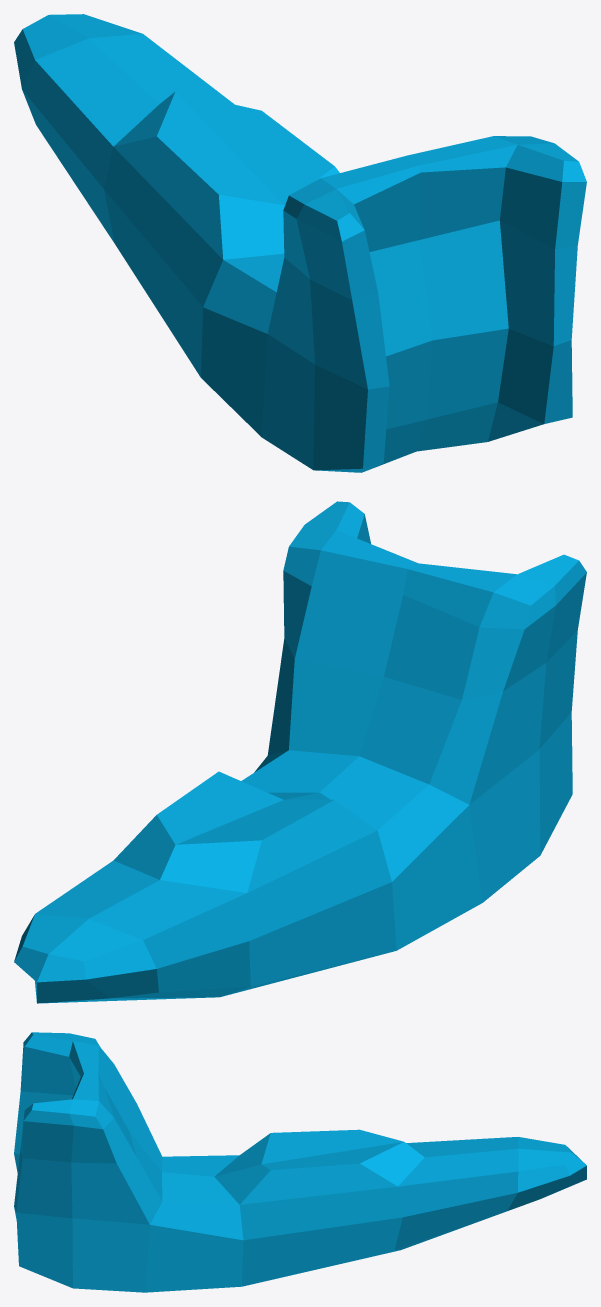
The model's file is Bull_Skull_Jaw.fbx.
3 views of the same model, one above another, from view 1: azimuth 30°, elevation 25°; view 2: azimuth 150°, elevation 25°; view 3: azimuth 270°, elevation 25° (orthographic). The views are drawn at different scales.
Visible parts, largest first — view 1: Bull_Skull_Jaw; view 2: Bull_Skull_Jaw; view 3: Bull_Skull_Jaw.
Part boxes in pixels (bbox=[...]): Bull_Skull_Jaw: bbox=[14, 14, 586, 472]; Bull_Skull_Jaw: bbox=[14, 501, 586, 1003]; Bull_Skull_Jaw: bbox=[14, 1032, 586, 1292].
Size of the model in its own units: 24.57 by 27.6 by 71.28.
